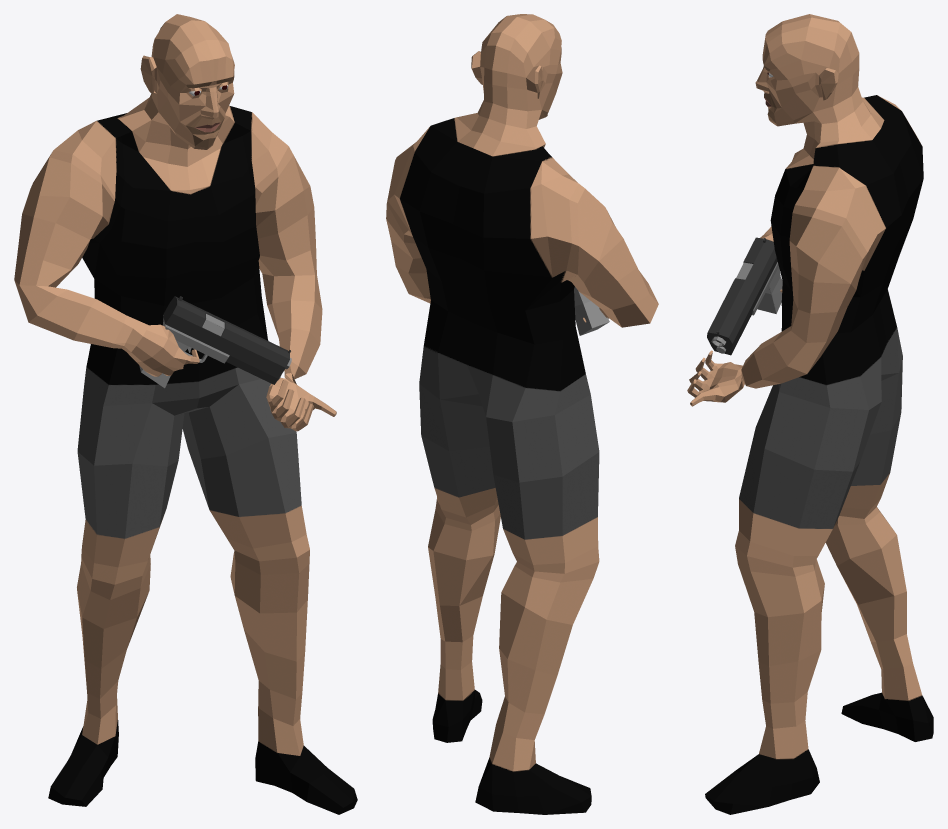
Rendered from PlayerIdle(218).obj.
The picture shows the model from 3 angles, left to right: view 1: azimuth 30°, elevation 25°; view 2: azimuth 150°, elevation 25°; view 3: azimuth 270°, elevation 25°; orthographic projection. The views are drawn at different scales.
Visible parts, largest first — view 1: Plane002, Box003; view 2: Plane002, Box003; view 3: Plane002, Box003.
Part boxes in pixels (bbox=[...]): Plane002: bbox=[14, 14, 357, 814]; Box003: bbox=[139, 296, 291, 388]; Plane002: bbox=[386, 14, 658, 814]; Box003: bbox=[574, 287, 609, 335]; Plane002: bbox=[687, 14, 933, 814]; Box003: bbox=[707, 237, 782, 355].
Bounding box in the file's own units: 676 × 1801 × 543.
